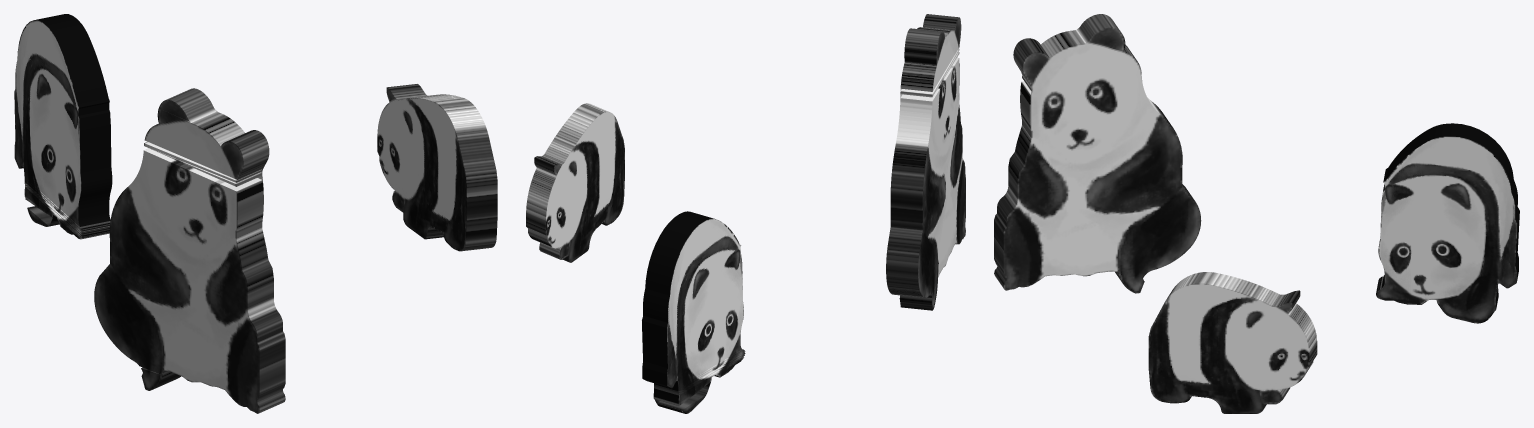
3 views of the same model, side by side, from view 1: azimuth 30°, elevation 25°; view 2: azimuth 150°, elevation 25°; view 3: azimuth 270°, elevation 25° (orthographic). The views are drawn at different scales.
Visible parts, largest first — view 1: instance_1.001, instance_0.001, instance_1; view 2: instance_1.001, instance_0.001, instance_1; view 3: instance_1.001, instance_0.001, instance_1.
Part boxes in pixels (<box>): instance_1.001: <box>94,88,285,413</box>; instance_0.001: <box>14,14,112,239</box>; instance_1: <box>377,84,497,251</box>; instance_1.001: <box>886,14,965,310</box>; instance_0.001: <box>642,211,745,413</box>; instance_1: <box>526,103,624,262</box>; instance_1.001: <box>994,14,1201,293</box>; instance_0.001: <box>1376,123,1519,323</box>; instance_1: <box>1148,272,1317,413</box>.
Bounding box in the file's own units: 0.5476 × 0.4131 × 0.7315.
3 materials, 3 textured.
